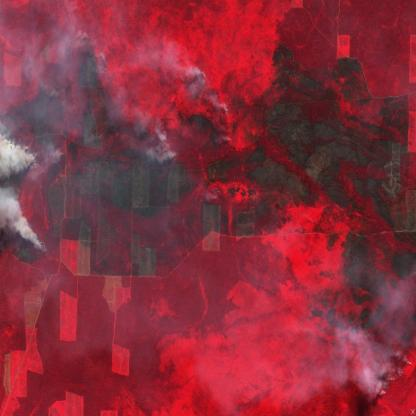fire: (0, 119, 45, 274), (53, 31, 110, 100), (368, 345, 416, 401), (182, 66, 212, 100)
